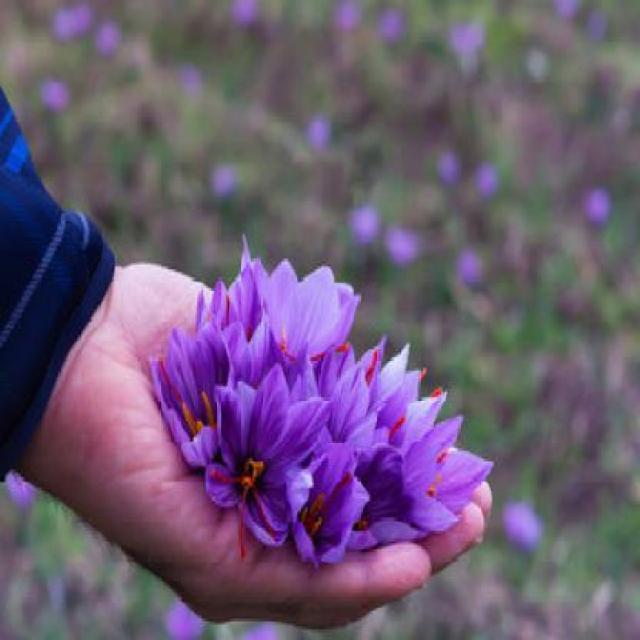Flower: (212, 392, 316, 543), (241, 234, 357, 368), (142, 325, 232, 449)
stigma: (155, 358, 200, 432), (318, 469, 358, 520), (236, 494, 250, 556), (362, 349, 384, 386)
